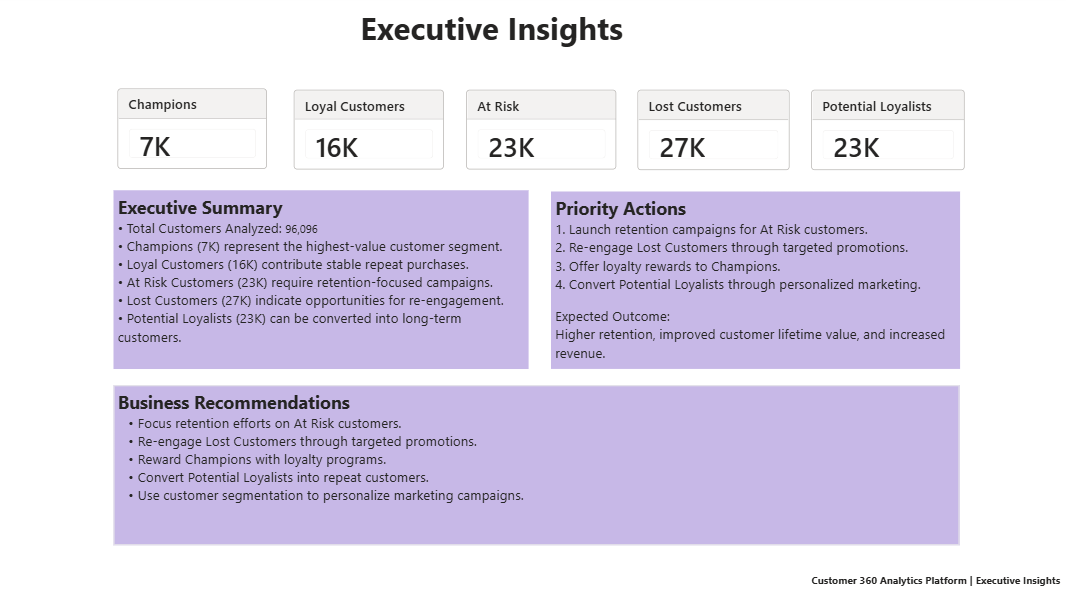

What the dashboard file says about the page in this screenshot:
{"tool":"powerbi","page":{"name":"Executive Insights","canvas":[1280,720],"ordinal":1},"visuals":[{"type":"cardVisual","fields":{"Data":["Sum(kpi_summary.Value)"],"Rows":["kpi_summary.Metric"]},"box":[85.1,107,263.5,148.2],"z":0}]}

Visuals, with their boxes in screenshot pixels (x1, y1, x2, y2), scaled from the page's 1280x720 canvas onto the 1066x593 screenshot:
cardVisual - Sum(kpi_summary.Value) x kpi_summary.Metric: crop(71, 88, 290, 210)
